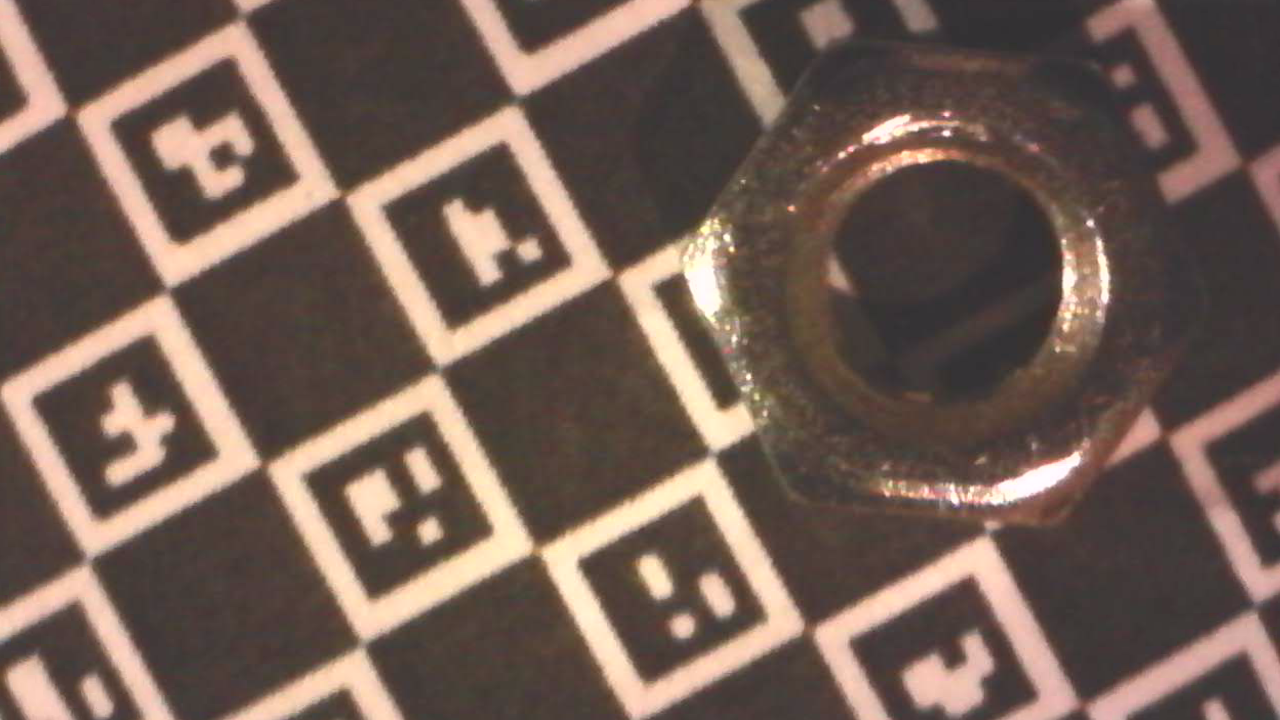Bolt: (676, 35, 1215, 535)
